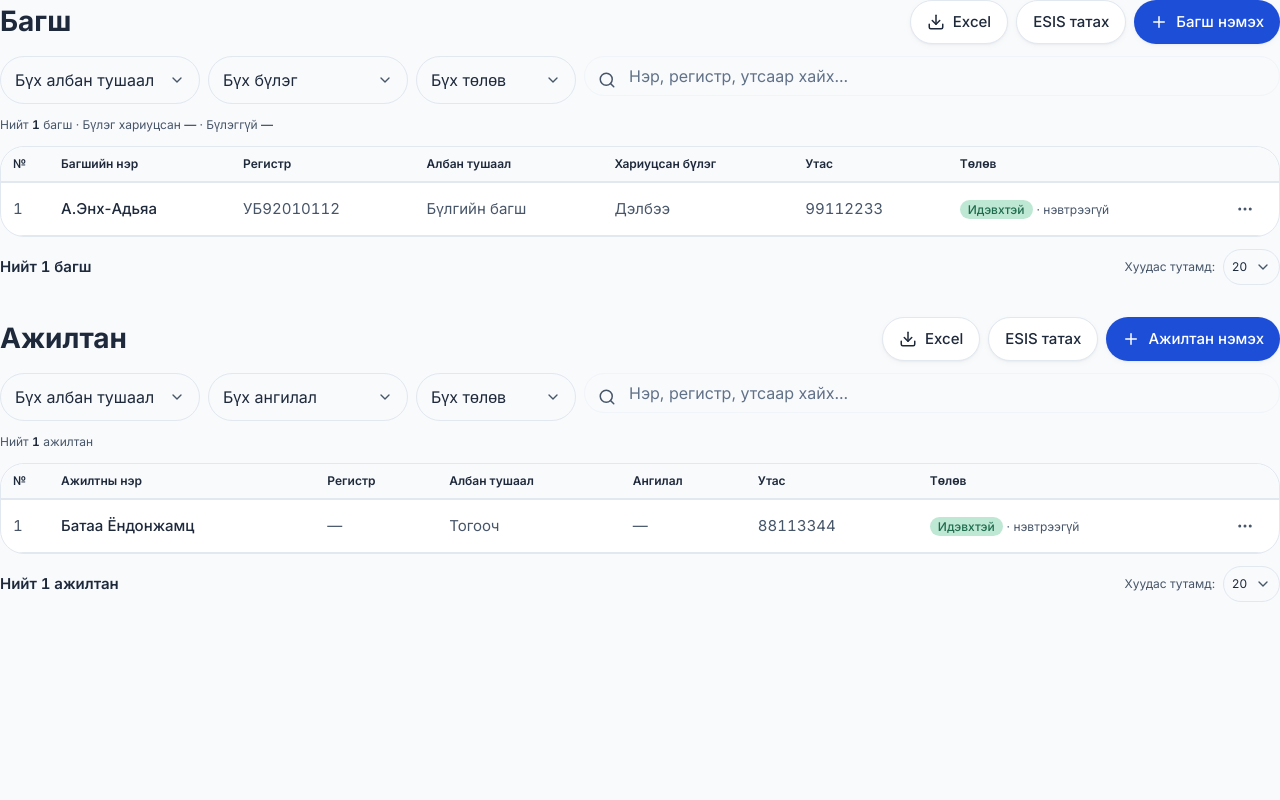
Test: the staff directory › starts an invitation in the section's own role
This screenshot has width=1280, height=800.
Click the button "Багш нэмэх".
click(1207, 22)  # box [1134,0,1279,44]
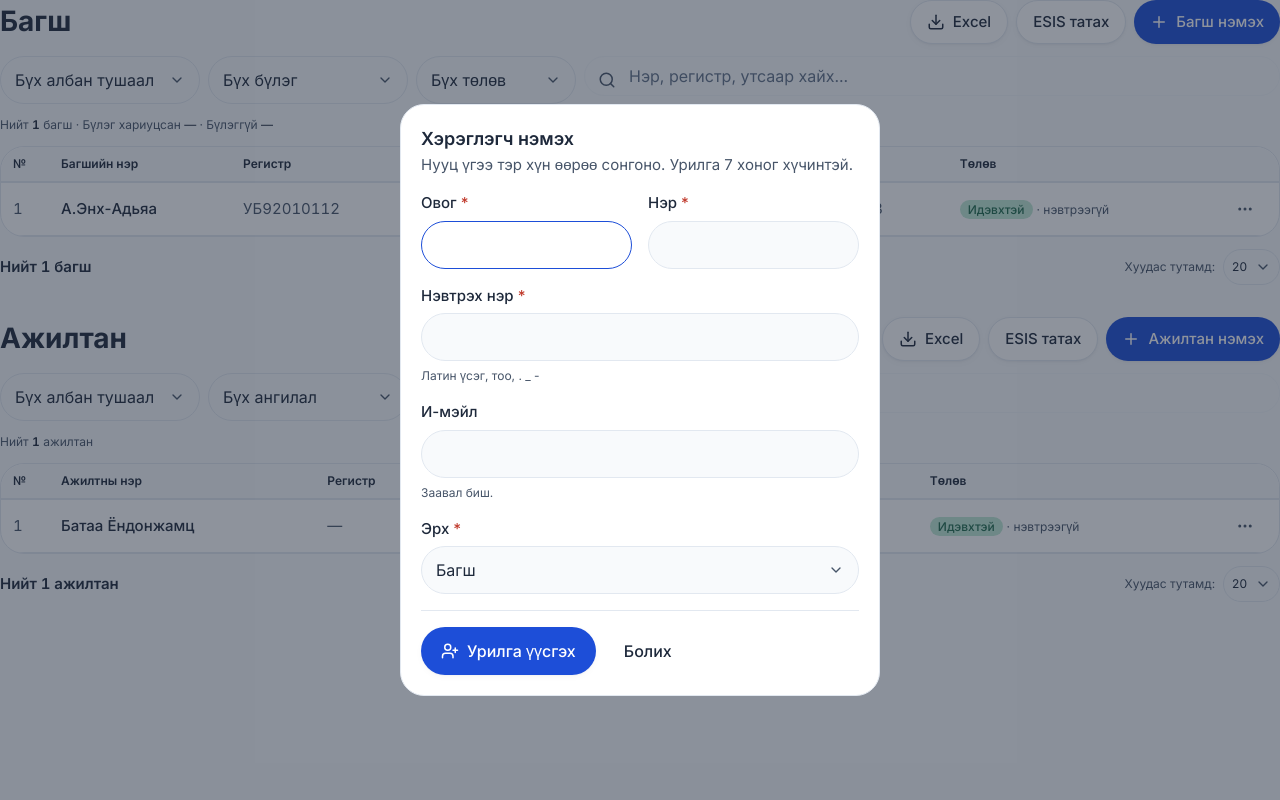
Expected: the dropdown named "Эрх" reads "Багш", [421,546,859,594]
